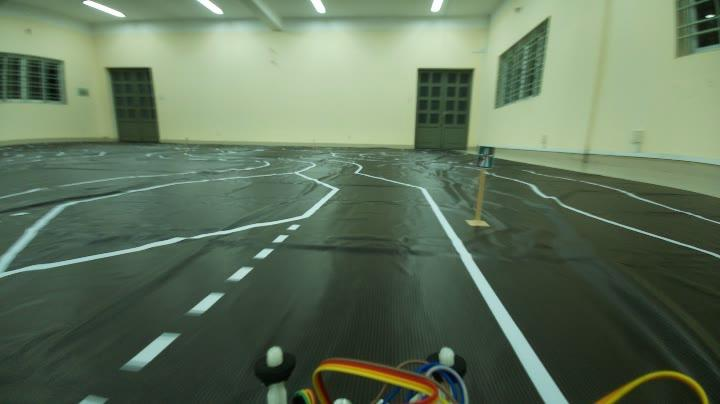highway_exit: (474, 142, 499, 174)
